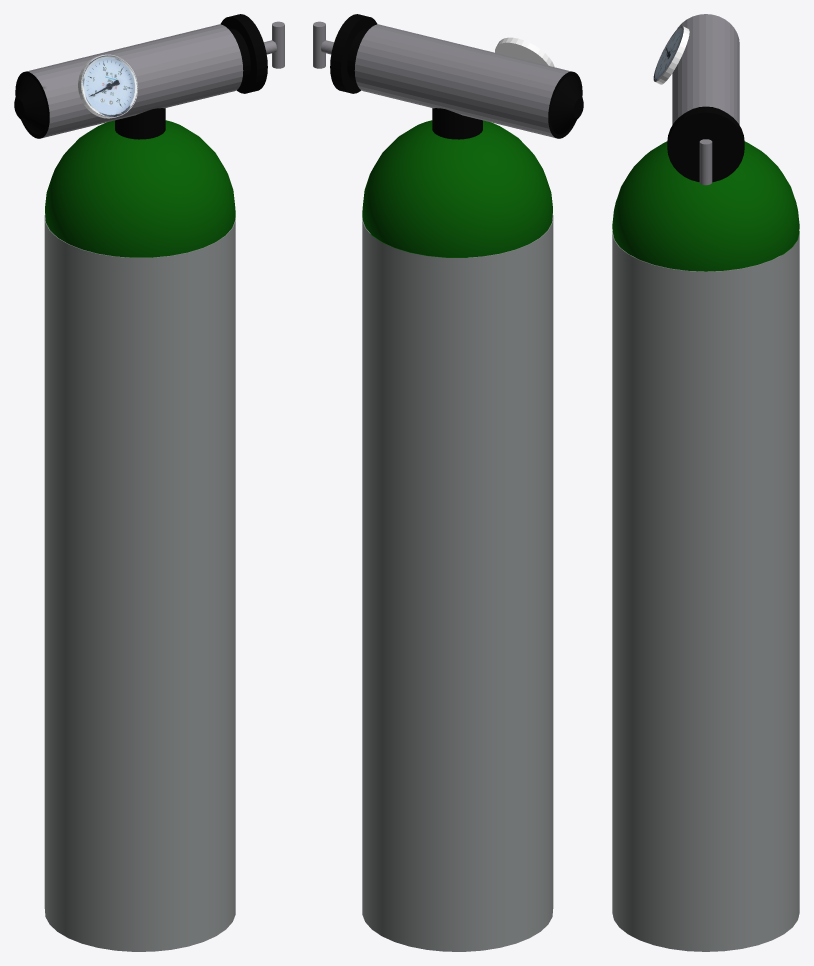
The model's file is tanque_oxigeno.obj.
The picture shows the model from 3 angles, left to right: view 1: azimuth 30°, elevation 25°; view 2: azimuth 150°, elevation 25°; view 3: azimuth 270°, elevation 25°; orthographic projection. The views are drawn at different scales.
Visible parts, largest first — view 1: Cylinder, Cylinder.002, Cylinder.003; view 2: Cylinder, Cylinder.002, Cylinder.003; view 3: Cylinder, Cylinder.002, Cylinder.003.
Boxes of the visible parts, x1,y1,x2,y2 form: Cylinder: [44, 120, 235, 951]; Cylinder.002: [14, 14, 284, 139]; Cylinder.003: [78, 54, 138, 118]; Cylinder: [362, 120, 553, 951]; Cylinder.002: [313, 14, 583, 139]; Cylinder.003: [495, 37, 554, 67]; Cylinder: [612, 141, 799, 951]; Cylinder.002: [667, 14, 744, 185]; Cylinder.003: [653, 26, 689, 84].
Bounding box in the file's own units: 0.4789 × 1.52 × 0.3.
